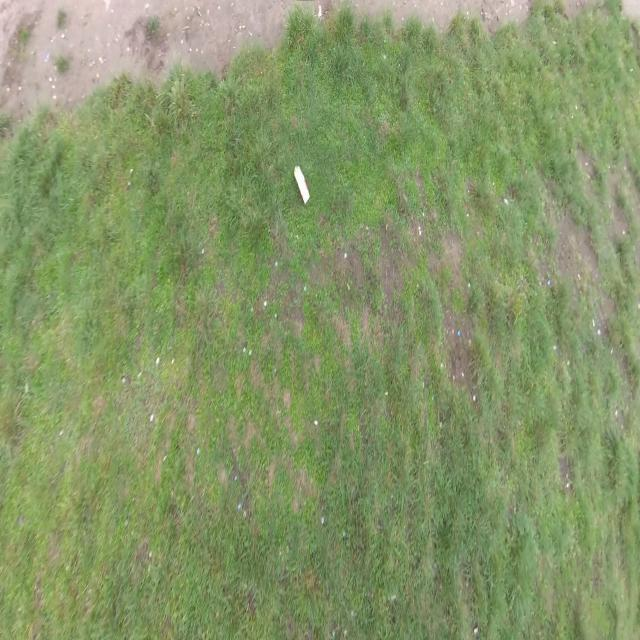rubbish: (293, 163, 311, 206)
